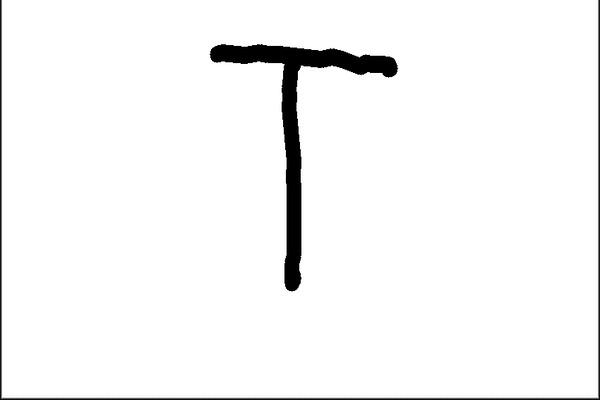T: (206, 33, 398, 292)
